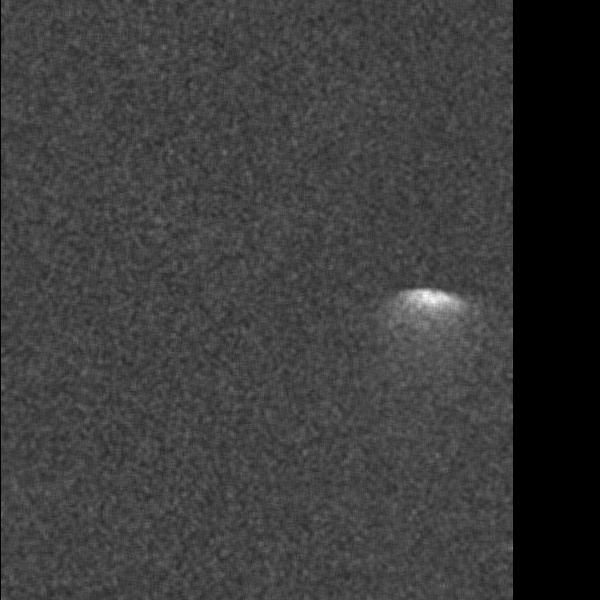spark: (386, 282, 474, 357)
